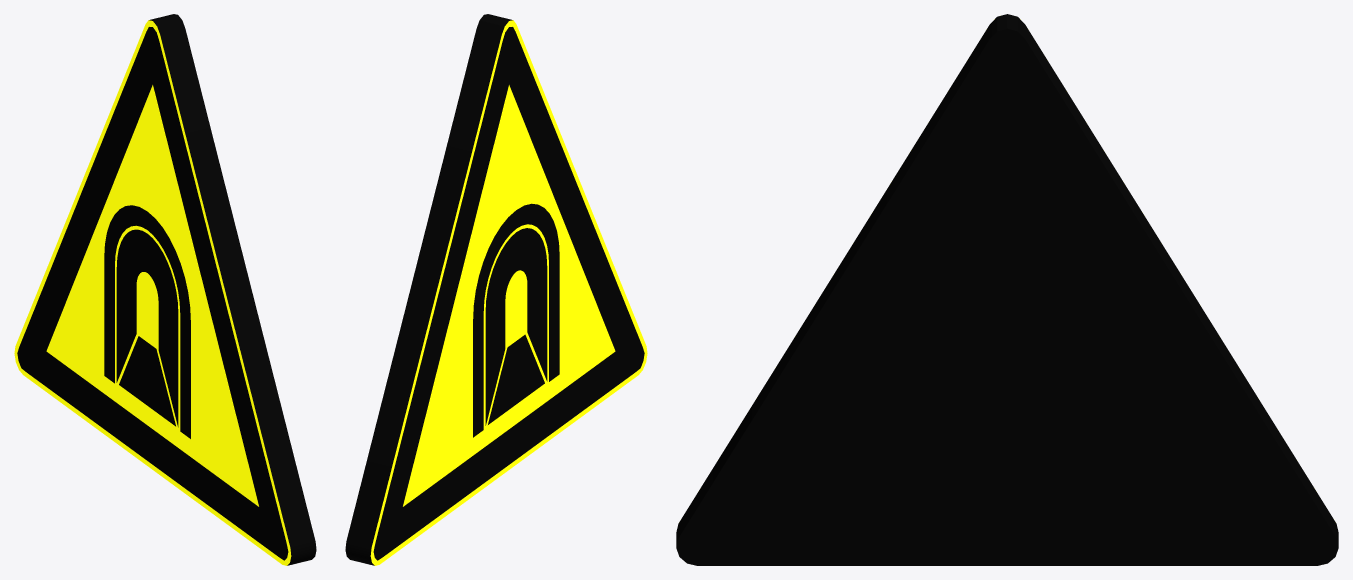
Rendered from Tunnel_Mark.glb.
The picture shows the model from 3 angles, left to right: view 1: azimuth 30°, elevation 25°; view 2: azimuth 150°, elevation 25°; view 3: azimuth 270°, elevation 25°; orthographic projection. The views are drawn at different scales.
Visible parts, largest first — view 1: Tunnel_Mark; view 2: Tunnel_Mark; view 3: Tunnel_Mark.
Part boxes in pixels (bbox=[...]): Tunnel_Mark: bbox=[14, 14, 316, 565]; Tunnel_Mark: bbox=[345, 14, 647, 565]; Tunnel_Mark: bbox=[676, 14, 1338, 565].
Size of the model in its own units: 0.075 by 1.02 by 1.14.
